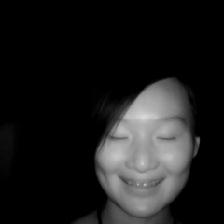happy: (83, 66, 203, 217)
